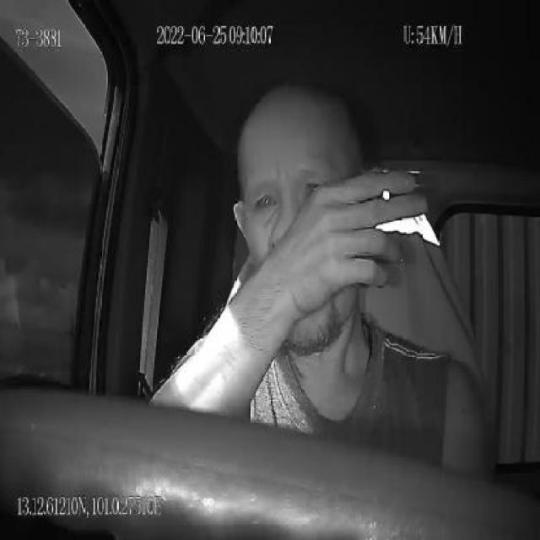smoking: (382, 186, 393, 204)
